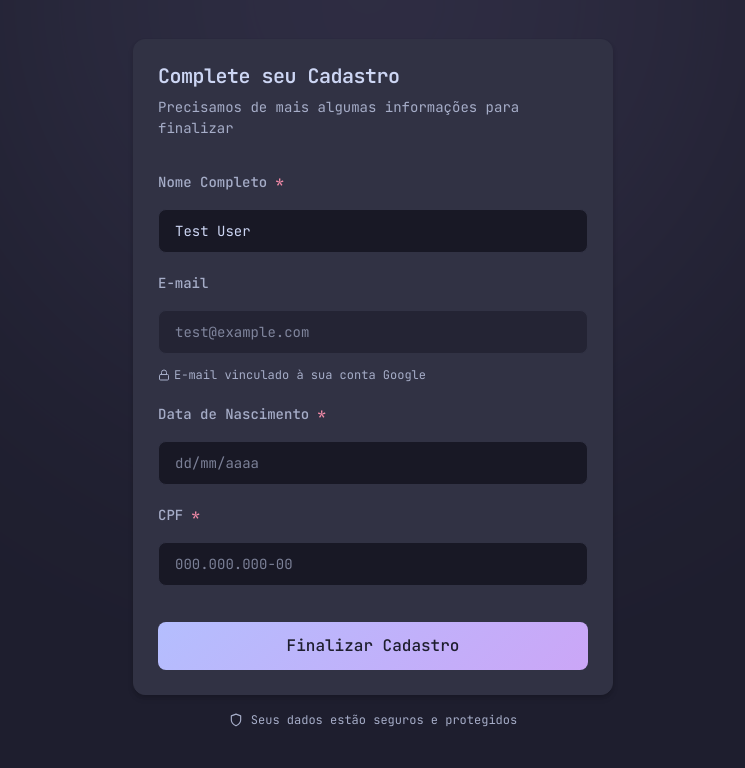
Test: RegisterCompleteView › tratamento de erros › deve exibir mensagem de erro da API
The image size is (745, 768).
Replace the text in the field with id "name" with "Test": coordinates (373, 231) [158,209,588,253]
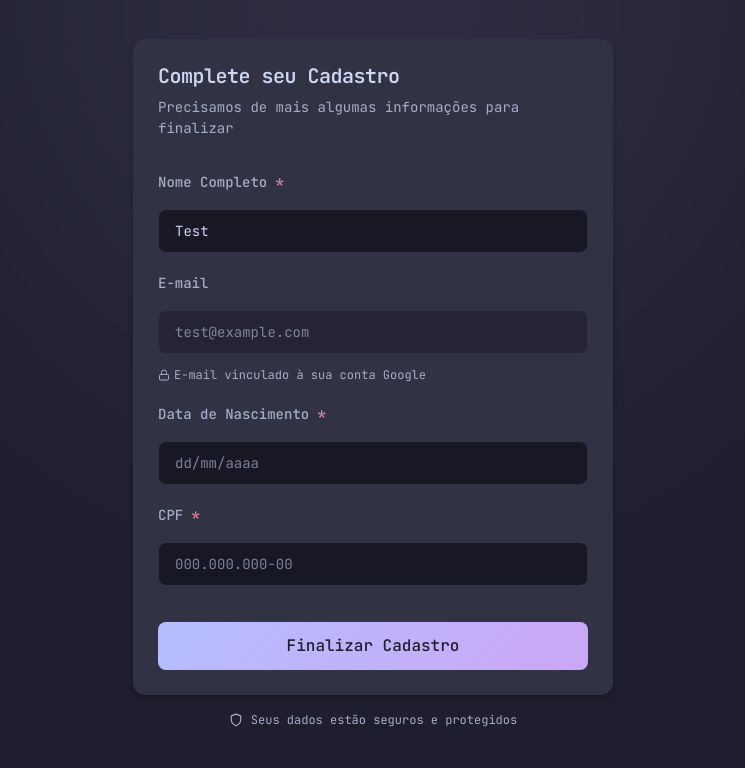
In the field with id "birth_date": coordinates (373, 463) [158,441,588,485], type "15/05/1990"
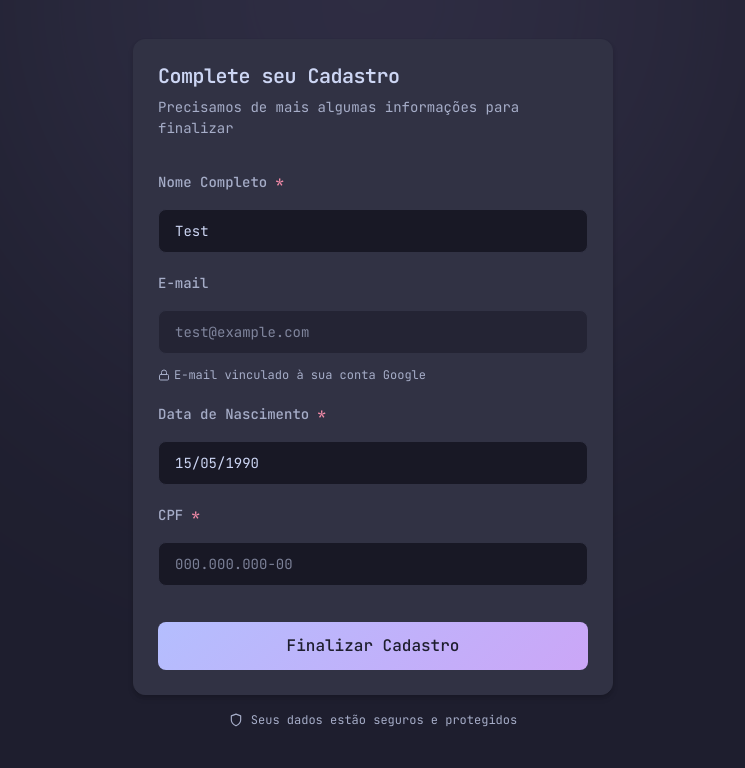
In the field with id "cpf": coordinates (373, 564) [158,542,588,586], type "123.456.789-00"
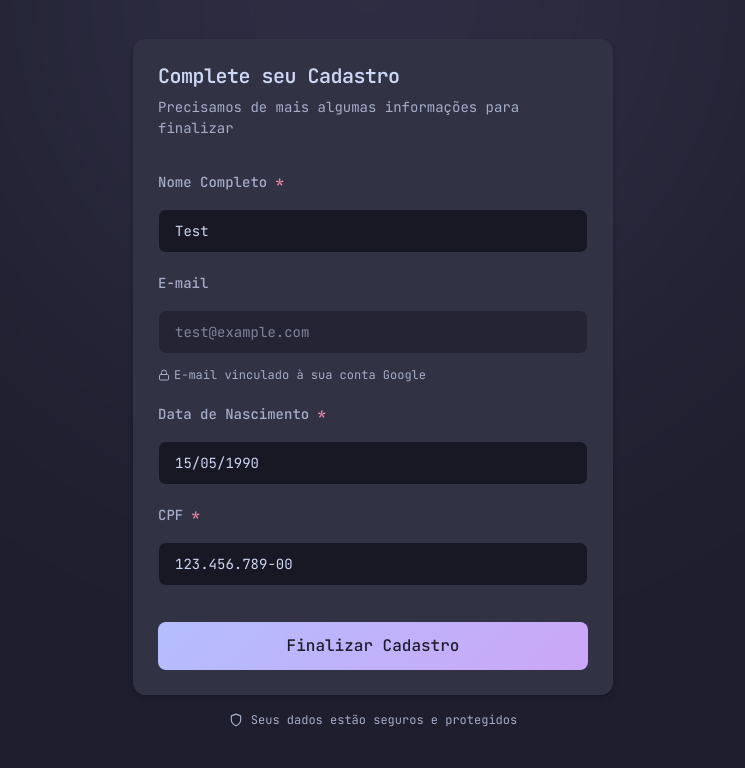
Submit the form, box [158,172,588,670]
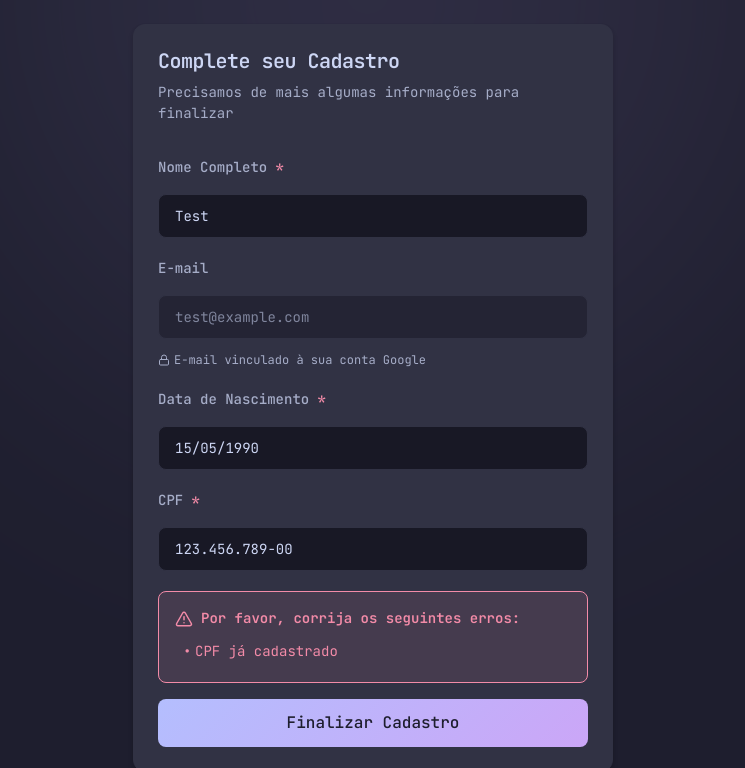
Now the element with class "register-form__errors" is shown, box [158,591,588,683]
Now the text "CPF já cadastrado" is shown, box [195,642,338,660]
